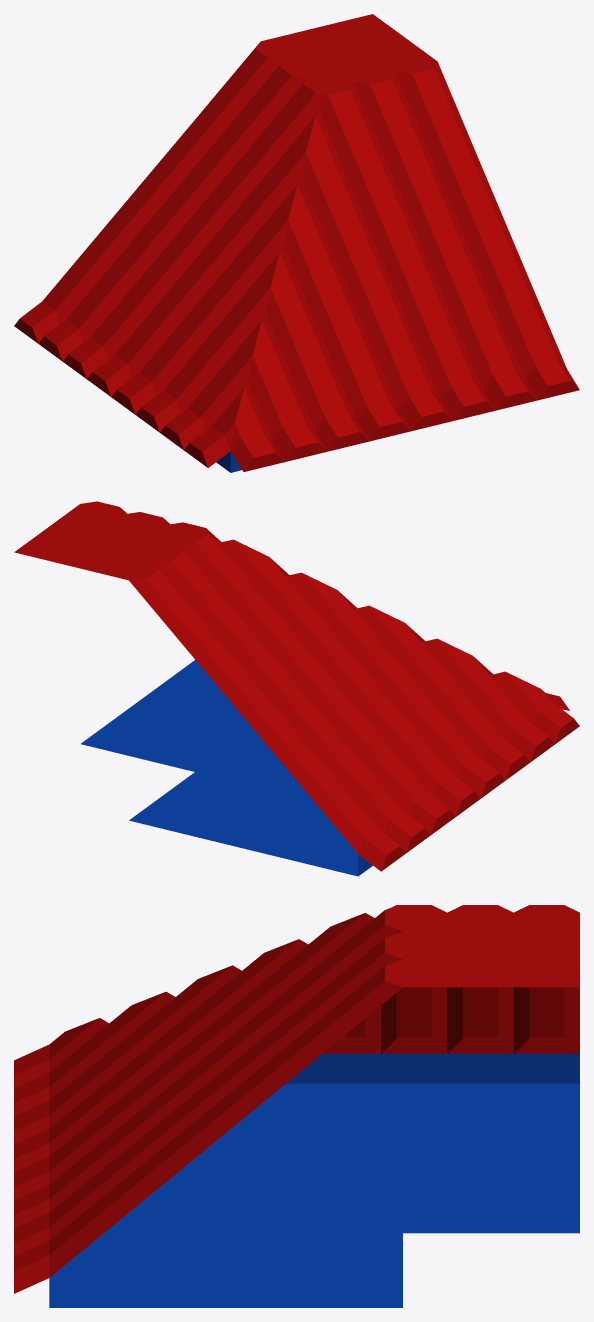
Rendered from RoofCorner.fbx.
The picture shows the model from 3 angles, top to bottom: view 1: azimuth 30°, elevation 25°; view 2: azimuth 150°, elevation 25°; view 3: azimuth 270°, elevation 25°; orthographic projection. The views are drawn at different scales.
Visible parts, largest first — view 1: RoofCorner; view 2: RoofCorner; view 3: RoofCorner.
Part boxes in pixels (left/top/right/bottom): RoofCorner: left=14, top=14, right=579, bottom=472; RoofCorner: left=14, top=501, right=579, bottom=876; RoofCorner: left=14, top=905, right=579, bottom=1307.
Bounding box in the file's own units: 320 × 200 × 320.
